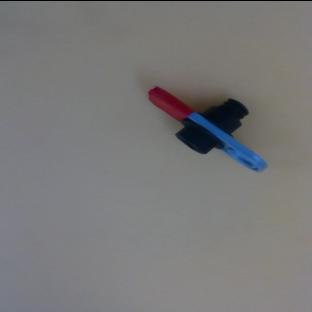part_1_good: (136, 74, 284, 174)
